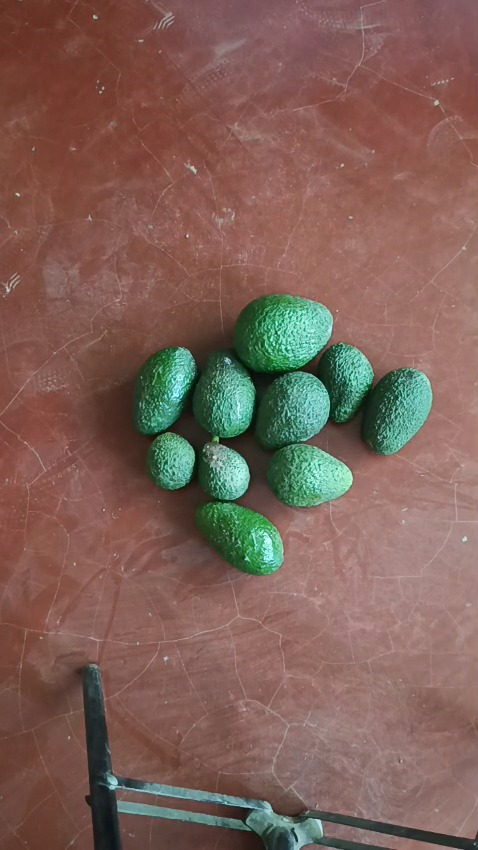Primera: (233, 293, 333, 372)
Segunda: (194, 502, 282, 574), (362, 366, 434, 454), (254, 371, 329, 450), (132, 345, 197, 435), (193, 350, 257, 439), (266, 443, 352, 507)
Tercera: (316, 341, 374, 423), (196, 439, 251, 500), (146, 431, 195, 490)
